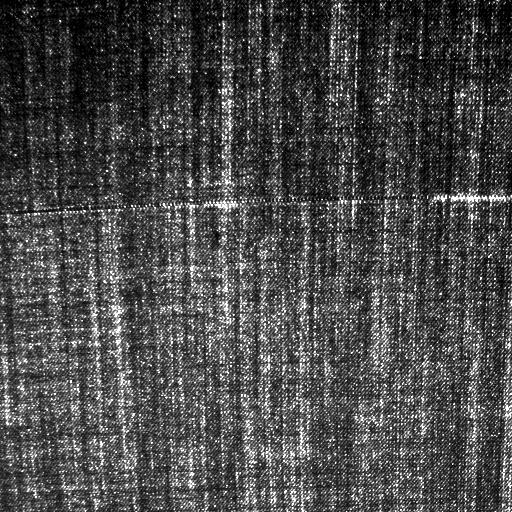fabric_broken_pick: (11, 190, 505, 214)
